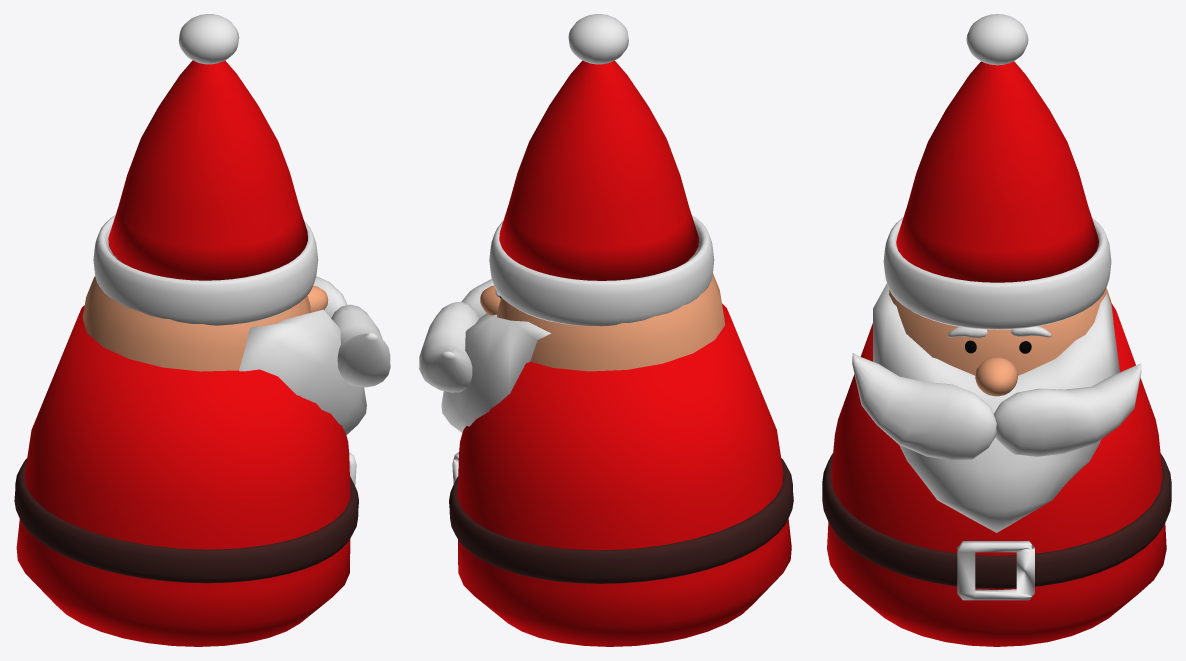
The model's file is santa.fbx.
3 views of the same model, side by side, from view 1: azimuth 30°, elevation 25°; view 2: azimuth 150°, elevation 25°; view 3: azimuth 270°, elevation 25° (orthographic).
Visible parts, largest first — view 1: santa; view 2: santa; view 3: santa.
Boxes of the visible parts, box(x1,y1,x2,y2) form: santa: box(14, 14, 390, 646); santa: box(419, 14, 793, 646); santa: box(822, 14, 1171, 646).
Size of the model in its own units: 1.11 by 1.96 by 1.03.
